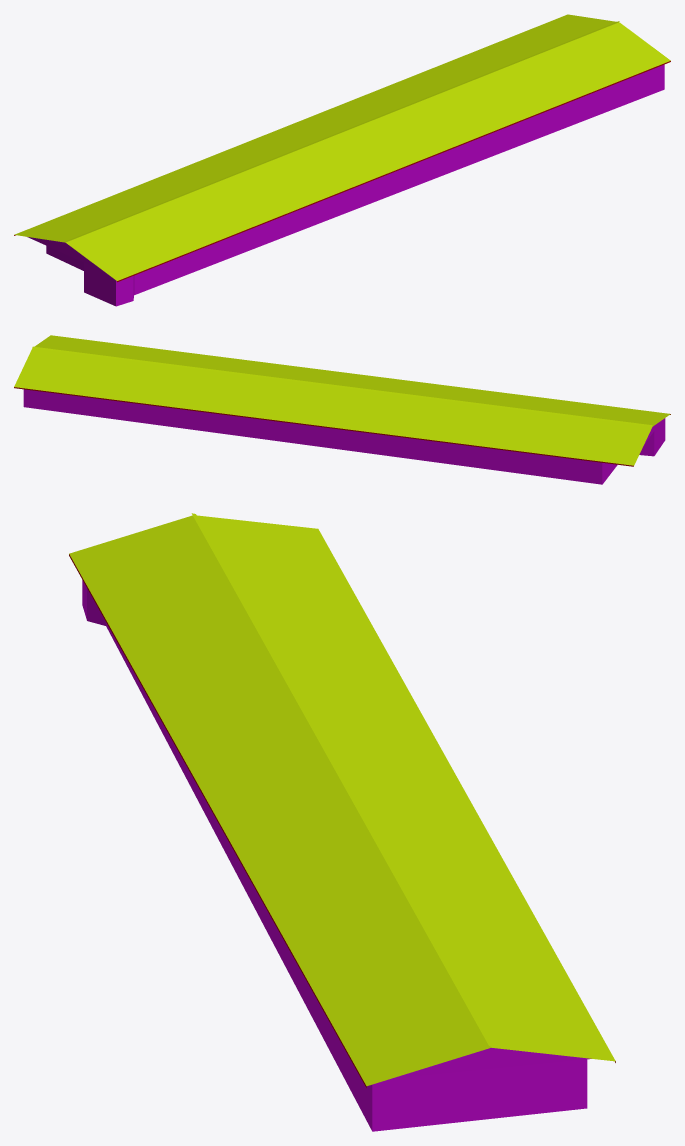
File: scl_138.glb
The picture shows the model from 3 angles, top to bottom: view 1: azimuth 30°, elevation 25°; view 2: azimuth 150°, elevation 25°; view 3: azimuth 270°, elevation 25°; orthographic projection. The views are drawn at different scales.
Parts seen in each view (by area): view 1: scl_138; view 2: scl_138; view 3: scl_138.
Boxes of the visible parts, box(x1,y1,x2,y2) form: scl_138: box(14, 14, 670, 306); scl_138: box(14, 335, 670, 484); scl_138: box(69, 513, 615, 1131).
Size of the model in its own units: 68.14 by 4.42 by 28.25.
